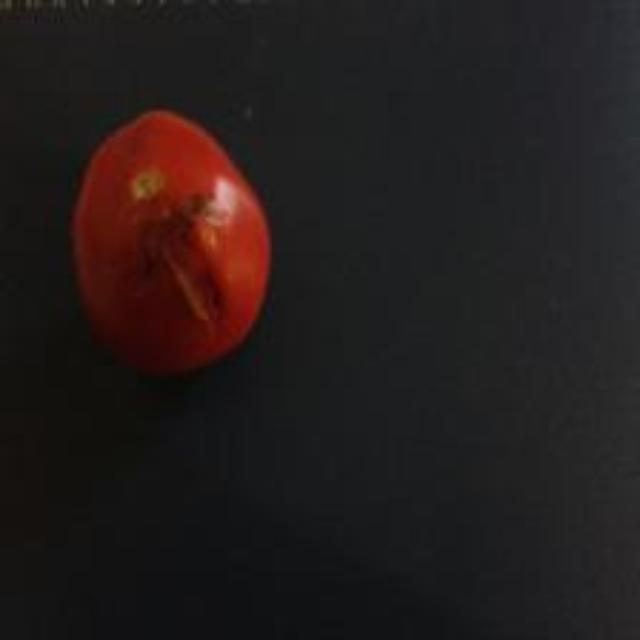defect: (67, 108, 276, 381)
